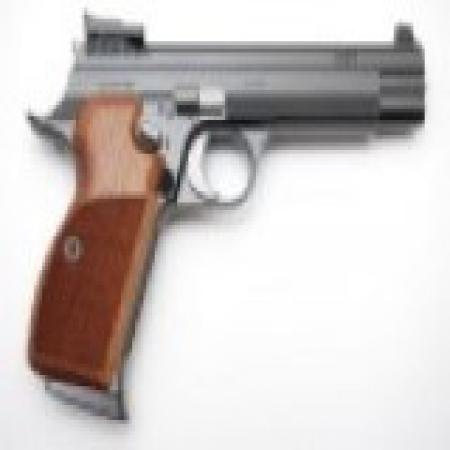Pistol: (26, 12, 431, 412)
